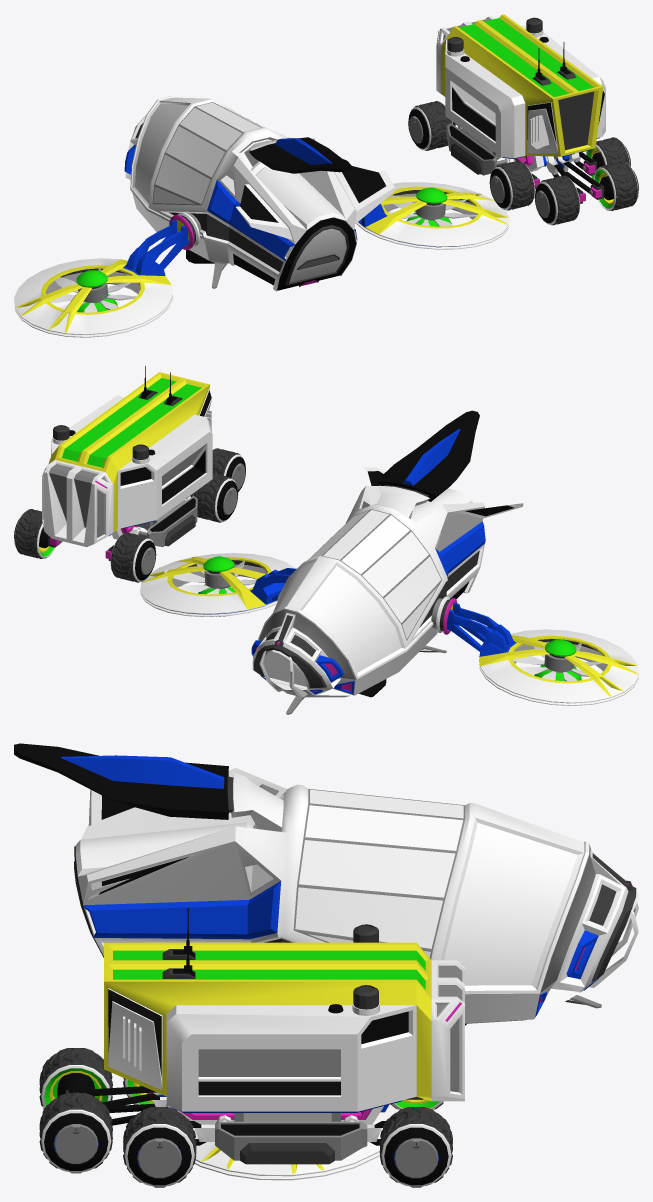
Rendered from ColonyFactory_Vehicles00.fbx.
3 views of the same model, one above another, from view 1: azimuth 30°, elevation 25°; view 2: azimuth 150°, elevation 25°; view 3: azimuth 270°, elevation 25° (orthographic). The views are drawn at different scales.
Visible parts, largest first — view 1: ShipBase00, Box004, Turbine00, Crystals00, Turbine001, VehicleLanderDrone00, Box002, Cylinder005, Cylinder004, Cylinder006, Cylinder003, Cylinder002 (+3 smaller); view 2: ShipBase00, Box004, Crystals00, Turbine00, Turbine001, Cylinder003, Box002, Cylinder004, Cylinder001, Cylinder005, Box009, Box010; view 3: Box004, ShipBase00, Crystals00, Box002, Cylinder006, Cylinder002, Cylinder001, Turbine001, Cylinder005, Box007, Box008.
Boxes of the visible parts, left/top/right/bottom form: ShipBase00: left=124, top=96, right=394, bottom=291; Box004: left=436, top=14, right=605, bottom=158; Turbine00: left=14, top=215, right=195, bottom=337; Crystals00: left=135, top=102, right=263, bottom=205; Turbine001: left=356, top=182, right=509, bottom=249; VehicleLanderDrone00: left=277, top=217, right=355, bottom=290; Box002: left=446, top=123, right=579, bottom=175; Cylinder005: left=534, top=175, right=580, bottom=225; Cylinder004: left=489, top=160, right=534, bottom=210; Cylinder006: left=593, top=161, right=638, bottom=210; Cylinder003: left=408, top=101, right=452, bottom=150; Cylinder002: left=586, top=137, right=630, bottom=179; ShipBase00: left=251, top=410, right=523, bottom=697; Box004: left=42, top=366, right=212, bottom=547; Crystals00: left=264, top=509, right=441, bottom=686; Turbine00: left=440, top=598, right=638, bottom=705; Turbine001: left=140, top=553, right=296, bottom=616; Cylinder003: left=110, top=532, right=156, bottom=582; Box002: left=109, top=496, right=197, bottom=547; Cylinder004: left=193, top=473, right=238, bottom=522; Cylinder001: left=14, top=509, right=55, bottom=558; Cylinder005: left=212, top=448, right=245, bottom=492; Box009: left=512, top=643, right=601, bottom=681; Box010: left=164, top=561, right=256, bottom=613; Box004: left=104, top=907, right=464, bottom=1112; ShipBase00: left=14, top=743, right=638, bottom=1025; Crystals00: left=293, top=789, right=577, bottom=985; Box002: left=166, top=1104, right=388, bottom=1164; Cylinder006: left=39, top=1092, right=112, bottom=1173; Cylinder002: left=123, top=1107, right=196, bottom=1187; Cylinder001: left=379, top=1107, right=452, bottom=1187; Turbine001: left=193, top=1104, right=399, bottom=1180; Cylinder005: left=39, top=1048, right=112, bottom=1109; Box007: left=66, top=1086, right=166, bottom=1112; Box008: left=102, top=1093, right=166, bottom=1125.
Bounding box in the file's own units: 290 × 99.21 × 178.
